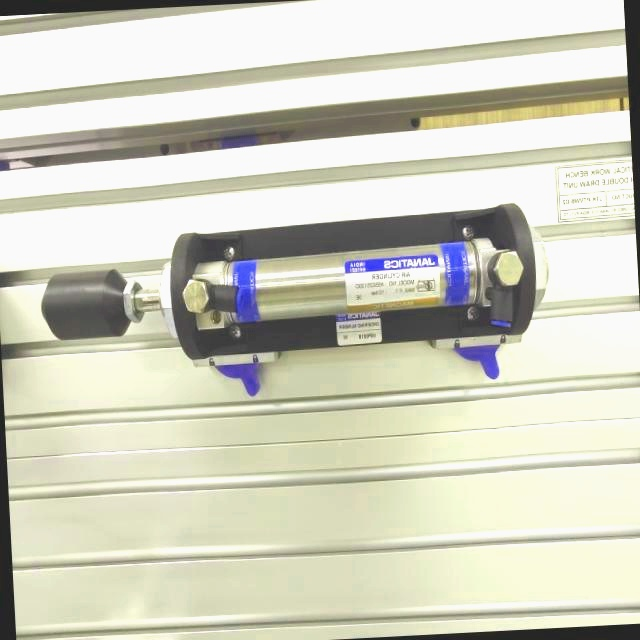double acting pneumatic cylinder: (30, 191, 559, 418)
